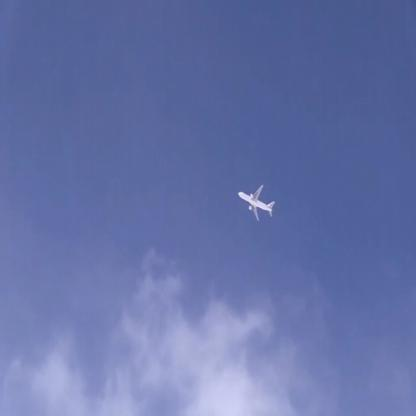CIV_Plane: (238, 184, 277, 222)
